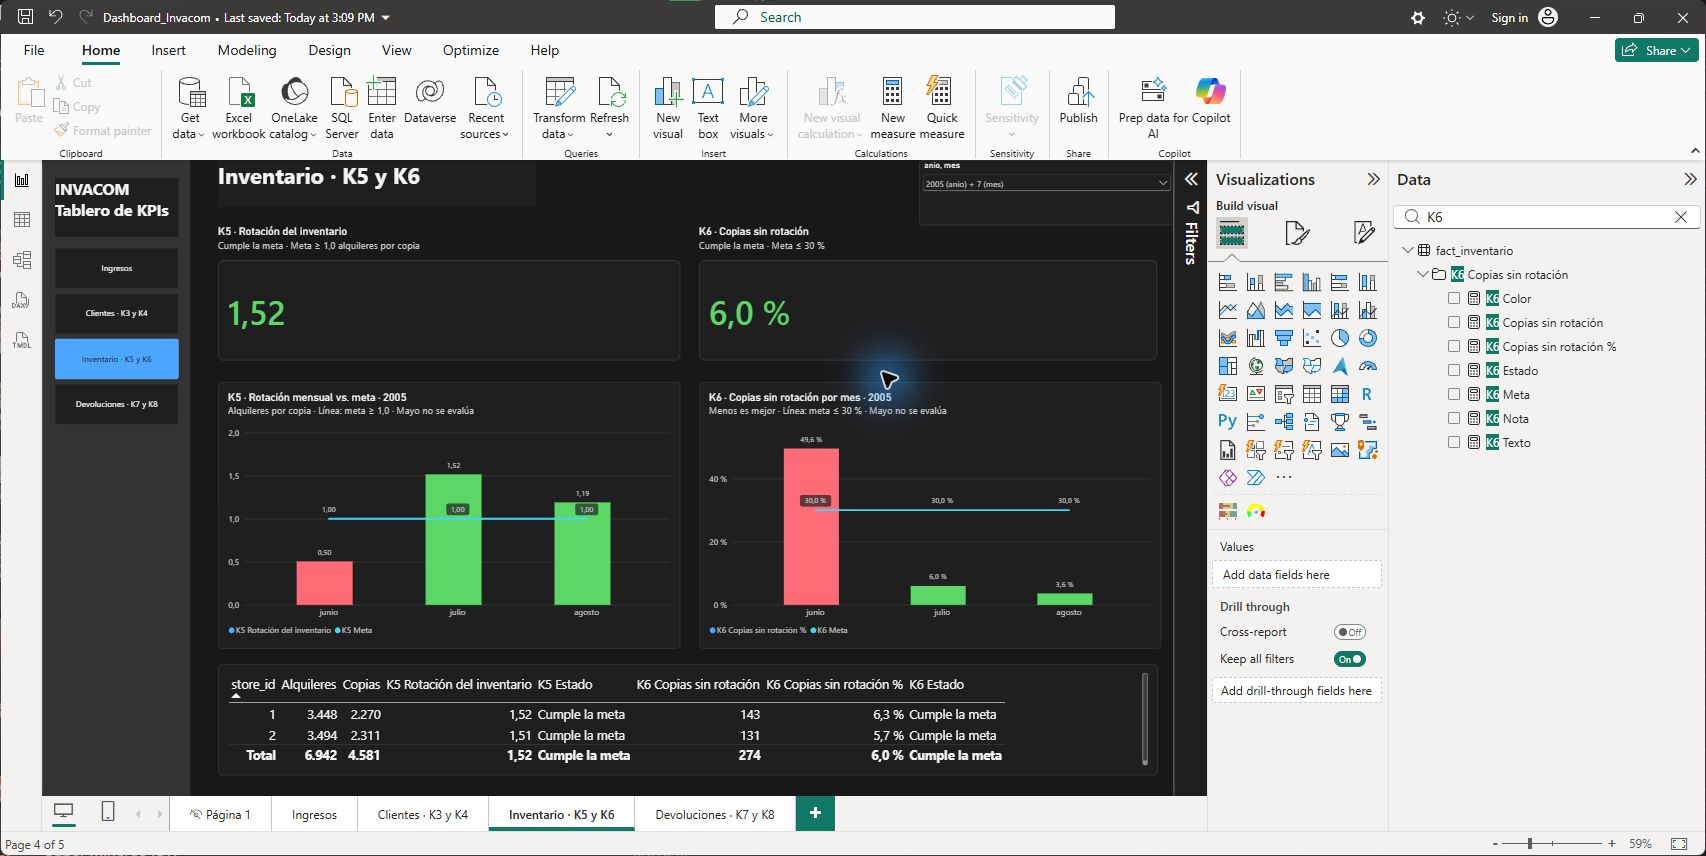

This screenshot's page, from the dashboard's own definition file:
{"tool":"powerbi","page":{"name":"Inventario · K5 y K6","canvas":[1920,1080],"ordinal":3},"visuals":[{"type":"shape","box":[0,0,250,1080],"z":0},{"type":"pageNavigator","box":[20,150,210,300],"z":1},{"type":"textbox","box":[20,30,210,100],"z":2},{"type":"tableEx","fields":{"Values":["dim_tienda.store_id","fact_alquiler.Alquileres","fact_inventario.Copias","fact_alquiler.K5 Rotación del inventario","fact_alquiler.K5 Estado","fact_inventario.K6 Copias sin rotación","fact_inventario.K6 Copias sin rotación %","fact_inventario.K6 Estado"]},"box":[296.3,855.1,1595.9,189.2],"z":3},{"type":"slicer","fields":{"Values":["dim_fecha.anio","dim_fecha.mes"]},"box":[1487,0,433.8,110.7],"z":4},{"type":"cardVisual","title":"K5 · Rotación del inventario","fields":{"Data":["fact_alquiler.K5 Texto"]},"box":[296.3,110.7,785.5,230.3],"z":5},{"type":"cardVisual","title":"K6 · Copias sin rotación","fields":{"Data":["fact_inventario.K6 Texto"]},"box":[1113.9,110.7,778.3,230.3],"z":6},{"type":"textbox","box":[296.3,0,540.9,80.3],"z":7},{"type":"lineClusteredColumnComboChart","title":"K5 · Rotación mensual vs. meta · 2005","fields":{"Category":["dim_fecha.nombre_mes"],"Y":["fact_alquiler.K5 Rotación del inventario"],"Y2":["fact_alquiler.K5 Meta"]},"box":[296.3,376.7,785.5,453.4],"z":8},{"type":"lineClusteredColumnComboChart","title":"K6 · Copias sin rotación por mes · 2005","fields":{"Category":["dim_fecha.nombre_mes"],"Y":["fact_inventario.K6 Copias sin rotación %"],"Y2":["fact_inventario.K6 Meta"]},"box":[1113.9,376.7,785.5,453.4],"z":9}]}

Visuals, with their boxes on the page's 1920x1080 design canvas (x1, y1, x2, y2). These are canvas units, not pixel positions in the 1706x856 screenshot, which may show the page scaled, cropped or inside an application window:
shape: bbox=[0, 0, 250, 1080]
pageNavigator: bbox=[20, 150, 230, 450]
textbox: bbox=[20, 30, 230, 130]
tableEx - dim_tienda.store_id x fact_alquiler.Alquileres: bbox=[296, 855, 1892, 1044]
slicer - dim_fecha.anio x dim_fecha.mes: bbox=[1487, 0, 1921, 111]
"K5 · Rotación del inventario" cardVisual: bbox=[296, 111, 1082, 341]
"K6 · Copias sin rotación" cardVisual: bbox=[1114, 111, 1892, 341]
textbox: bbox=[296, 0, 837, 80]
"K5 · Rotación mensual vs. meta · 2005" lineClusteredColumnComboChart: bbox=[296, 377, 1082, 830]
"K6 · Copias sin rotación por mes · 2005" lineClusteredColumnComboChart: bbox=[1114, 377, 1899, 830]
